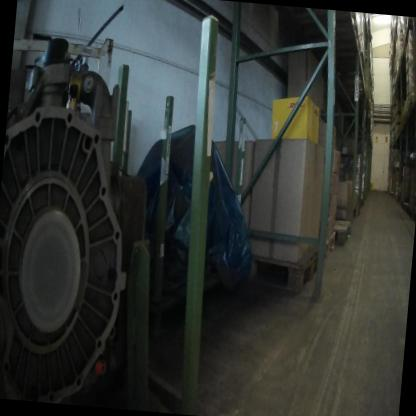pallet: (235, 244, 320, 299), (294, 9, 359, 40), (306, 26, 365, 59), (308, 230, 335, 274), (334, 67, 370, 93), (327, 217, 354, 249), (334, 202, 357, 229), (401, 201, 416, 224)
